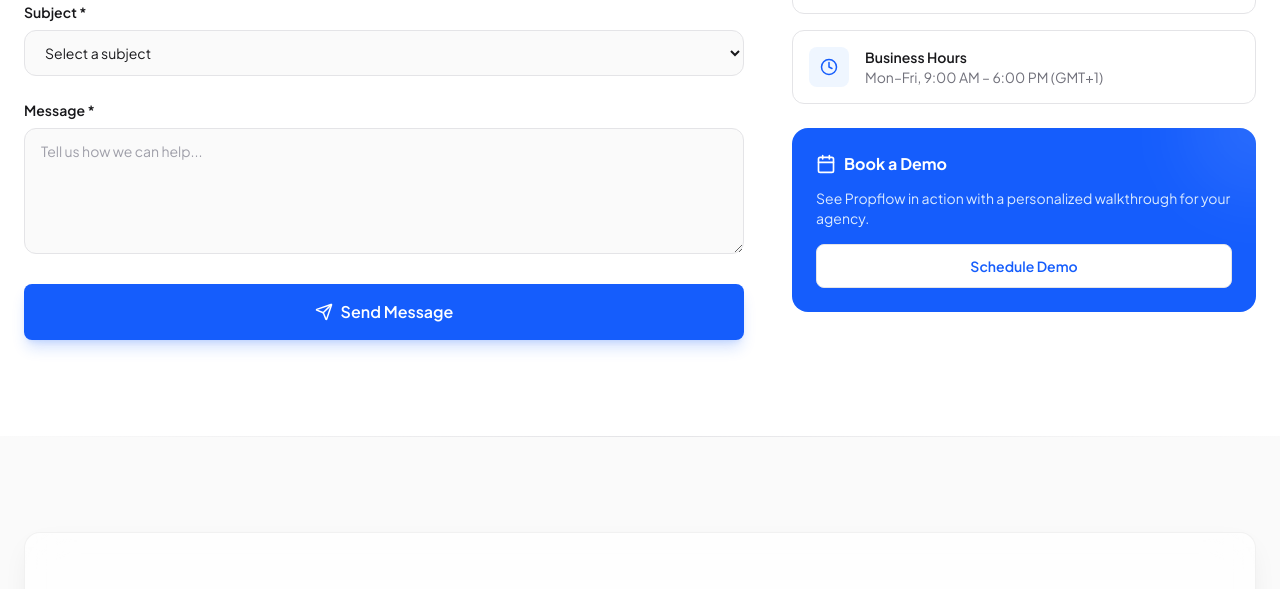
Test case: ContactPage › shows validation errors on empty submit
(page scrolled)
Click the button "Send Message": click(384, 312) [24,284,744,340]
(page scrolled)
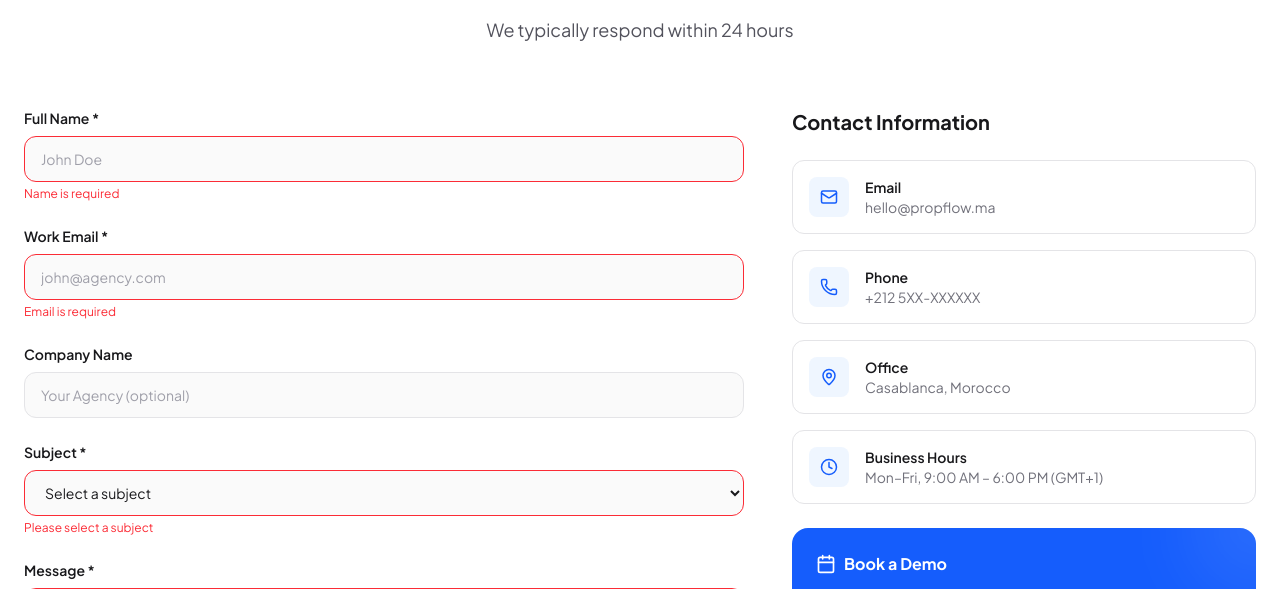
Result: the text "Name is required" is shown at [24,186,119,201]
Result: the text "Email is required" is shown at [24,304,116,319]
